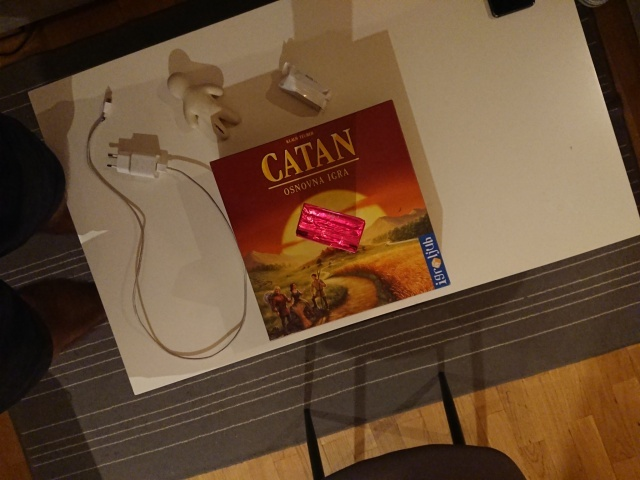Barcaffe Classic Original 225g: (294, 201, 367, 255)
